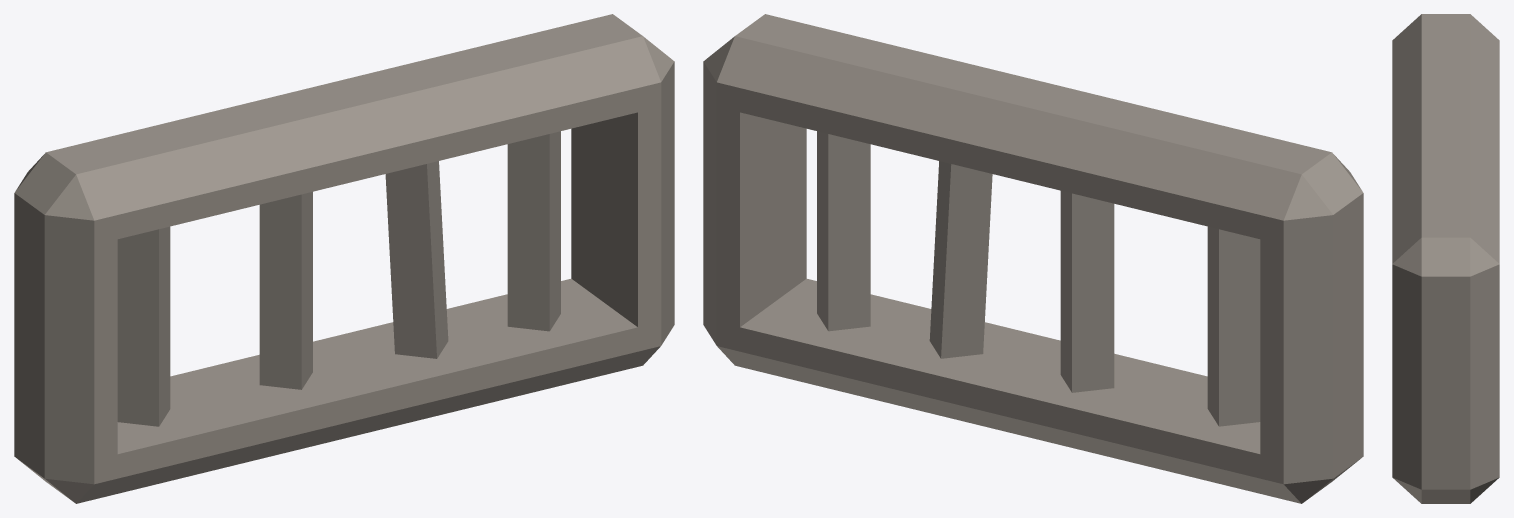
The model's file is m_dec_dung_grillBrick.fbx.
3 views of the same model, side by side, from view 1: azimuth 30°, elevation 25°; view 2: azimuth 150°, elevation 25°; view 3: azimuth 270°, elevation 25° (orthographic). The views are drawn at different scales.
Parts seen in each view (by area): view 1: m_dec_dung_grillBrick; view 2: m_dec_dung_grillBrick; view 3: m_dec_dung_grillBrick.
Part boxes in pixels (x1,y1,x2,y2): m_dec_dung_grillBrick: (14, 14, 674, 503); m_dec_dung_grillBrick: (703, 14, 1363, 503); m_dec_dung_grillBrick: (1392, 14, 1499, 503).
Bounding box in the file's own units: 2 × 1 × 0.3662.
